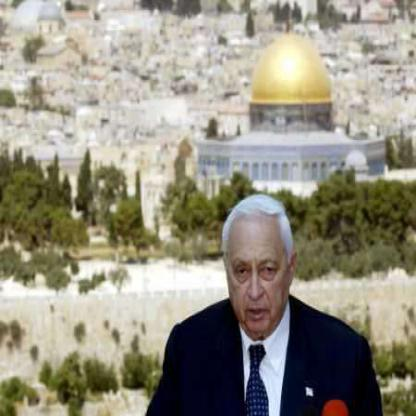face: (229, 204, 292, 335)
